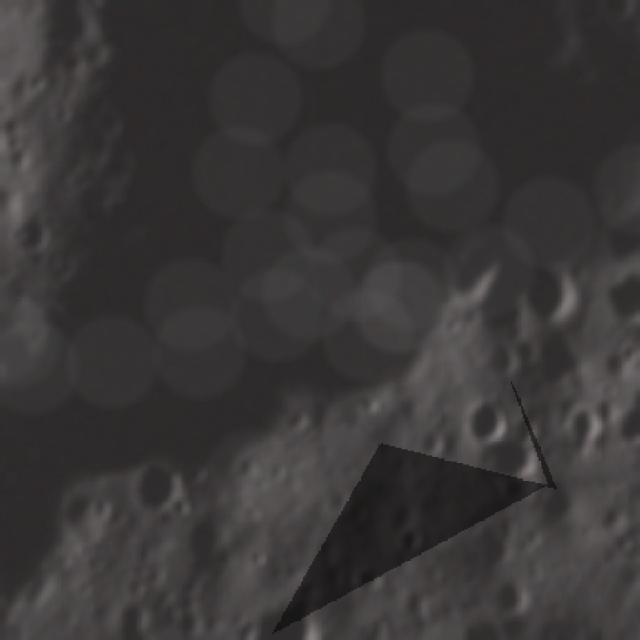crater: (482, 426, 546, 492), (243, 586, 322, 639), (520, 260, 583, 323), (128, 459, 184, 521), (178, 509, 236, 565), (530, 470, 585, 528), (458, 396, 510, 446), (65, 486, 113, 537), (468, 332, 520, 377), (5, 207, 50, 256), (562, 402, 604, 444), (413, 423, 450, 463), (115, 597, 153, 635), (494, 576, 532, 613), (390, 523, 428, 559), (347, 563, 384, 594)
